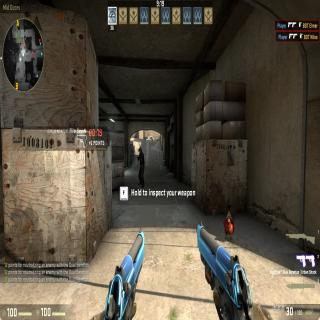T-Body: (136, 147, 145, 188)
T-Head: (138, 146, 142, 154)
